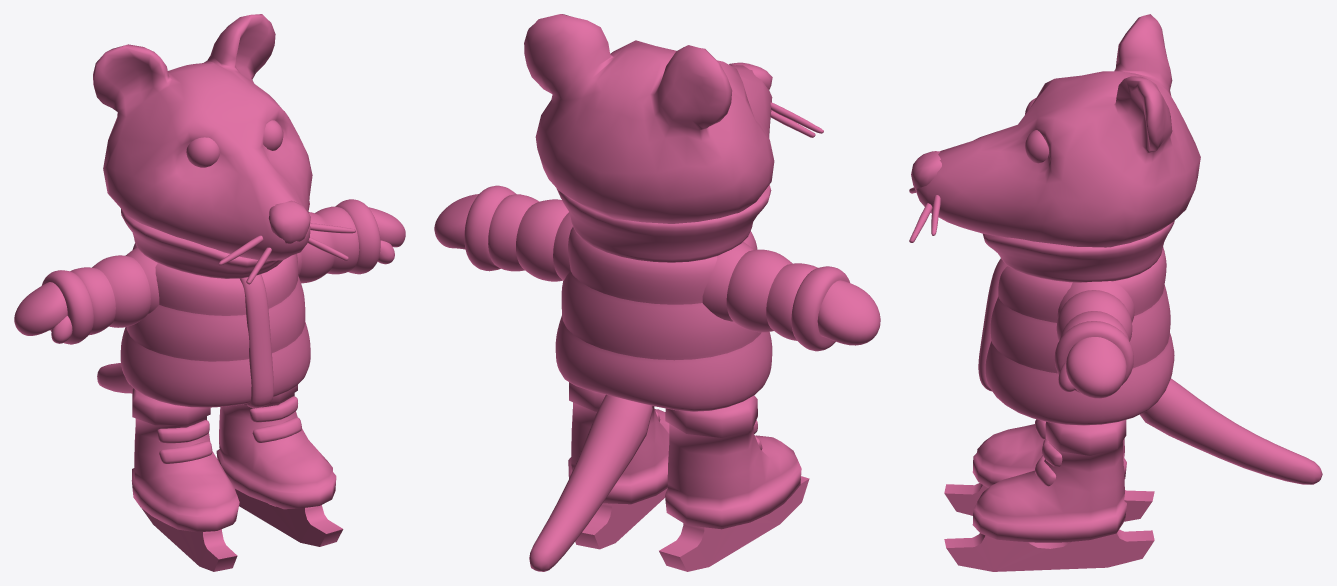
The model's file is EnemySliderPos01.fbx.
The picture shows the model from 3 angles, left to right: view 1: azimuth 30°, elevation 25°; view 2: azimuth 150°, elevation 25°; view 3: azimuth 270°, elevation 25°; orthographic projection. The views are drawn at different scales.
Parts seen in each view (by area): view 1: PossumSlider.001; view 2: PossumSlider.001; view 3: PossumSlider.001.
Boxes of the visible parts, x1,y1,x2,y2 form: PossumSlider.001: (14, 14, 405, 571); PossumSlider.001: (434, 14, 880, 571); PossumSlider.001: (909, 14, 1322, 571).
Bounding box in the file's own units: 178 × 208 × 158.
